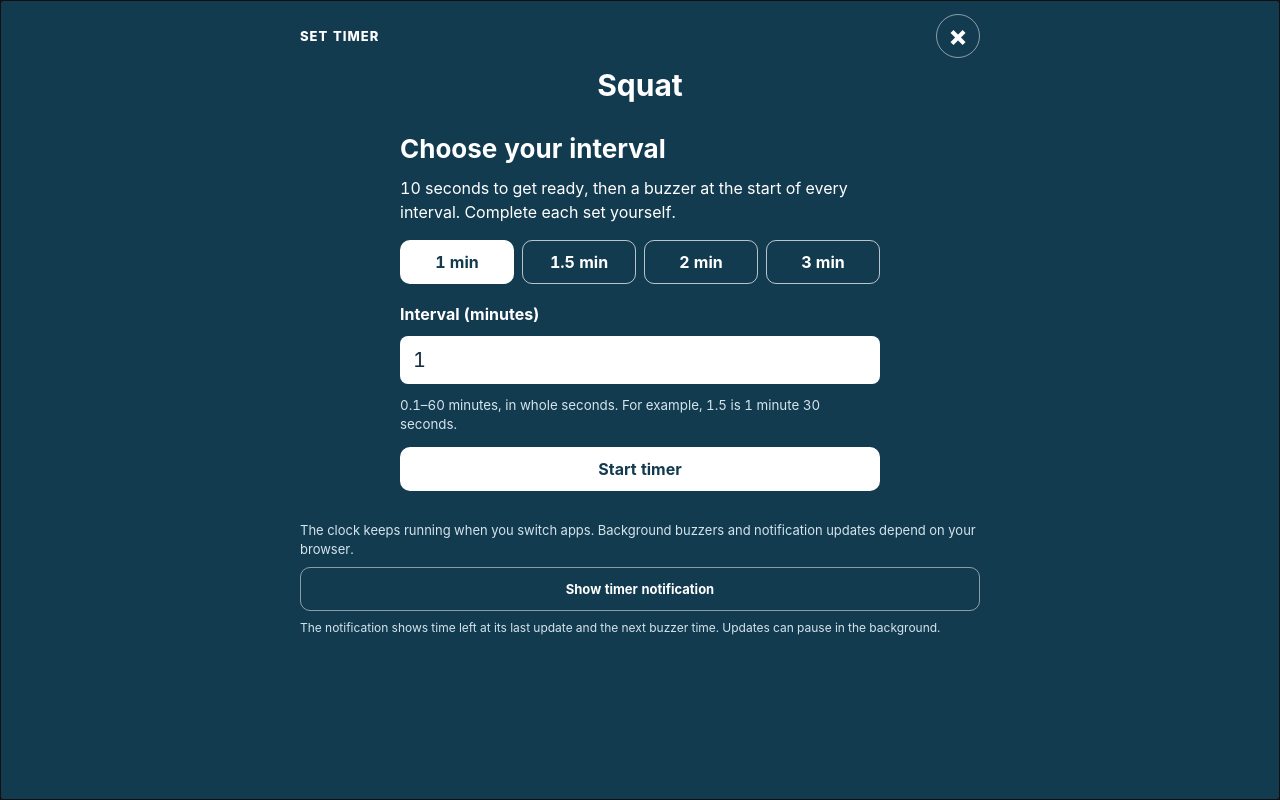
Test case: rejects an invalid custom interval
Clear the number field with id "set-timer-minutes" at (640, 360), box [400, 336, 880, 384]
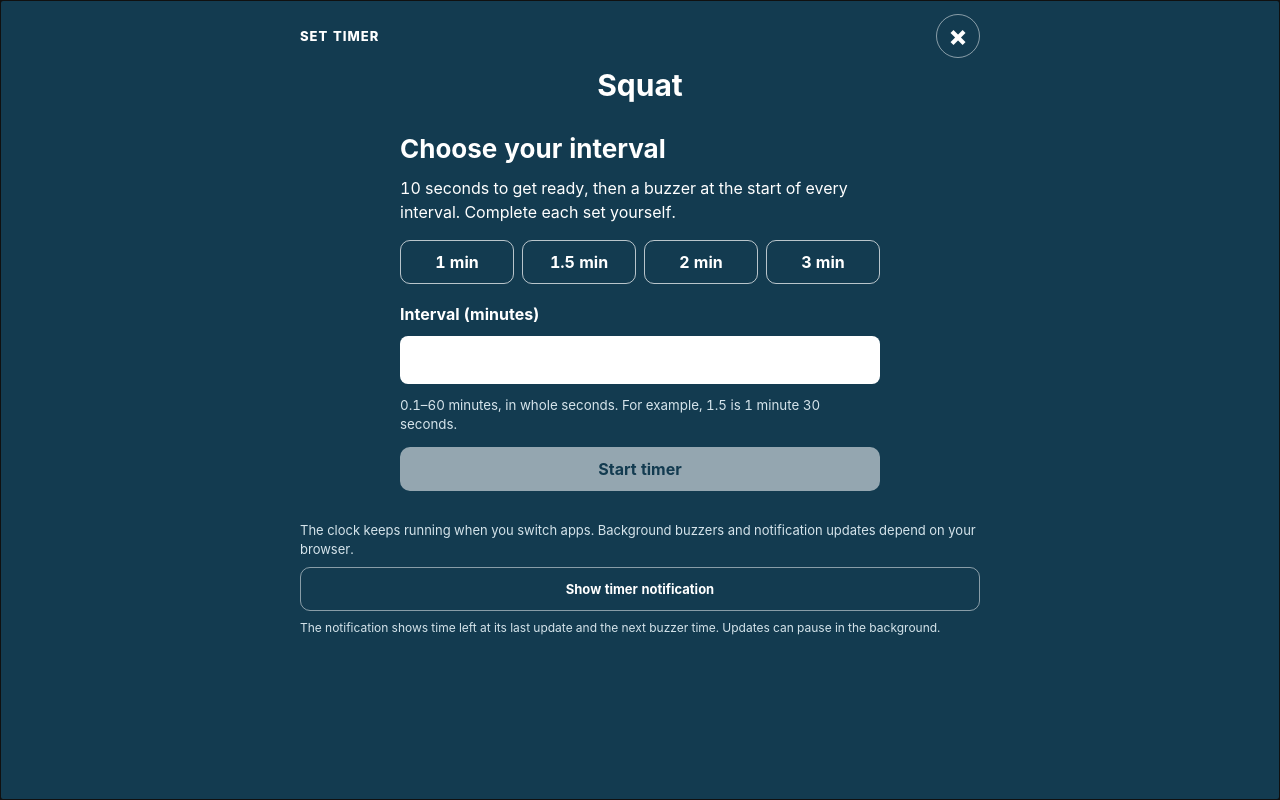
Now the button "Start timer" is disabled, box [400, 448, 880, 492]
